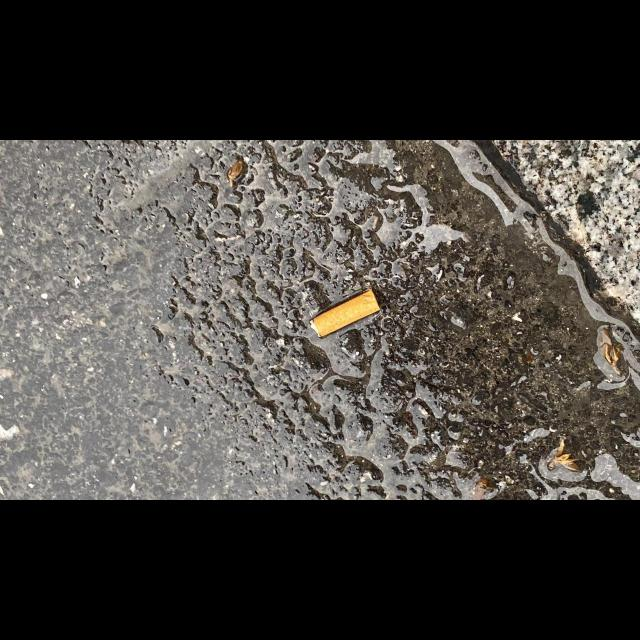cigarette: (309, 290, 381, 338)
